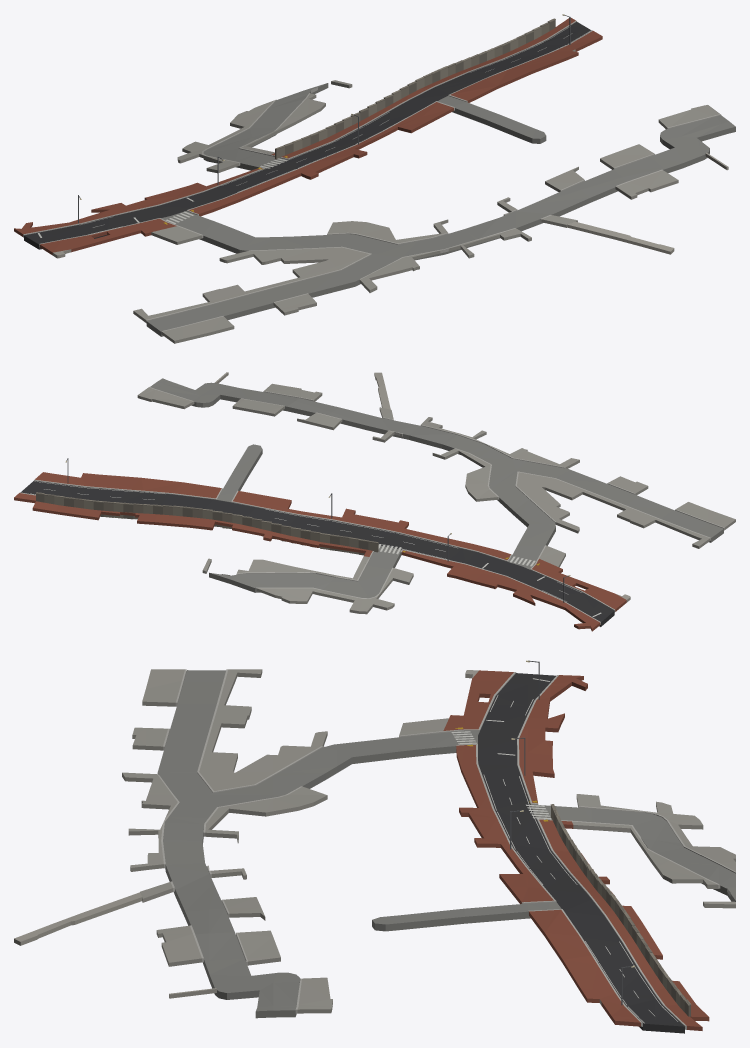
The picture shows the model from 3 angles, top to bottom: view 1: azimuth 30°, elevation 25°; view 2: azimuth 150°, elevation 25°; view 3: azimuth 270°, elevation 25°; orthographic projection. The views are drawn at different scales.
Bounding box in the file's own units: 147 × 15.63 × 113.
